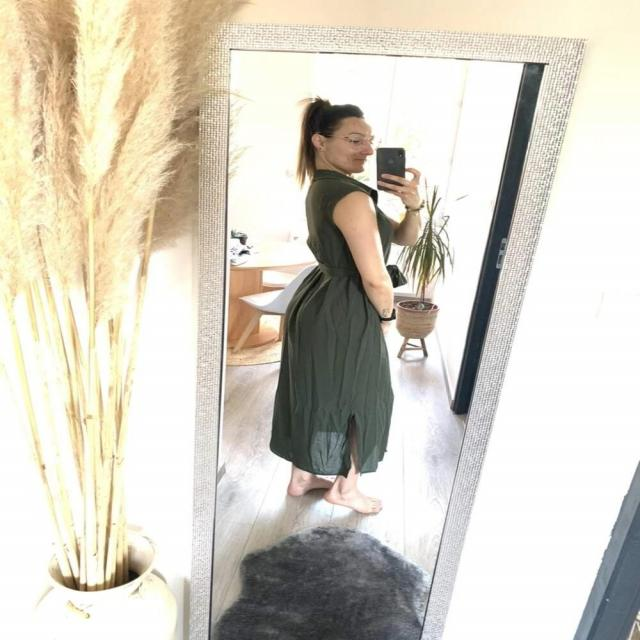clothes: (264, 161, 428, 489)
